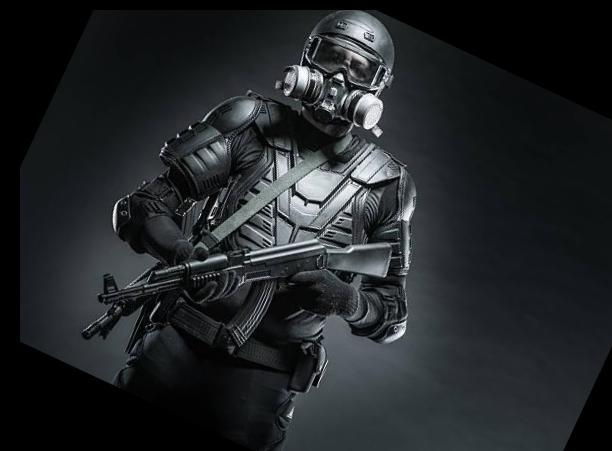larga: (98, 242, 392, 347)
